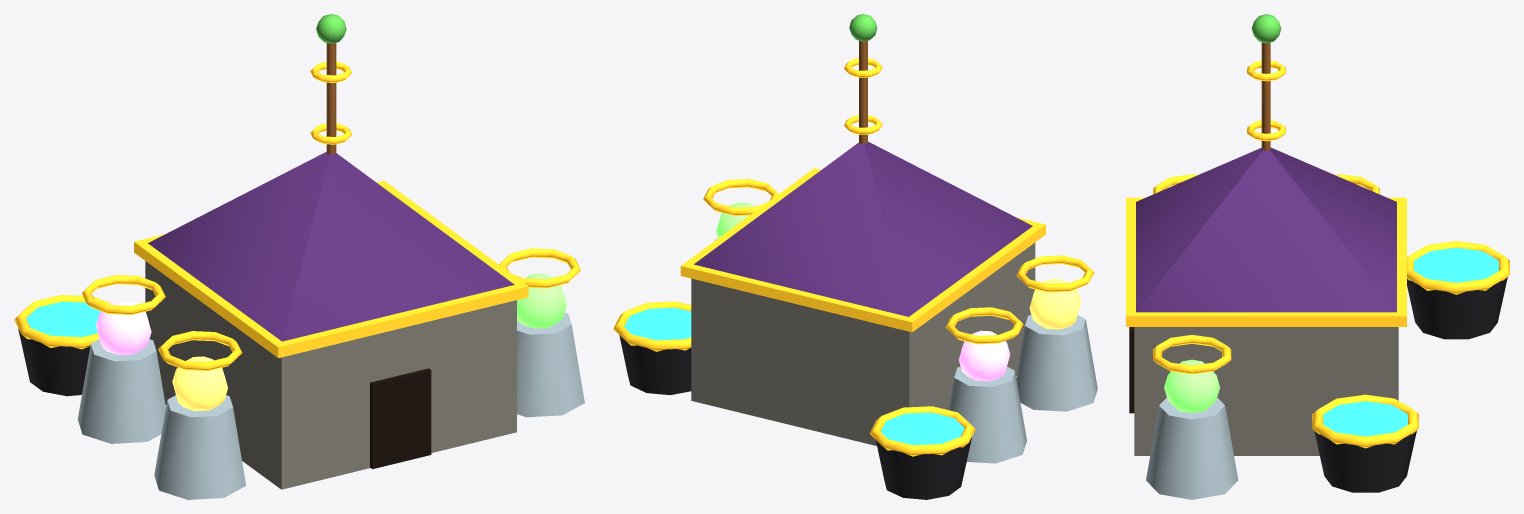
The model's file is level5.glb.
3 views of the same model, side by side, from view 1: azimuth 30°, elevation 25°; view 2: azimuth 150°, elevation 25°; view 3: azimuth 270°, elevation 25° (orthographic). The views are drawn at different scales.
Size of the model in its own units: 2.88 by 2.57 by 2.32.
